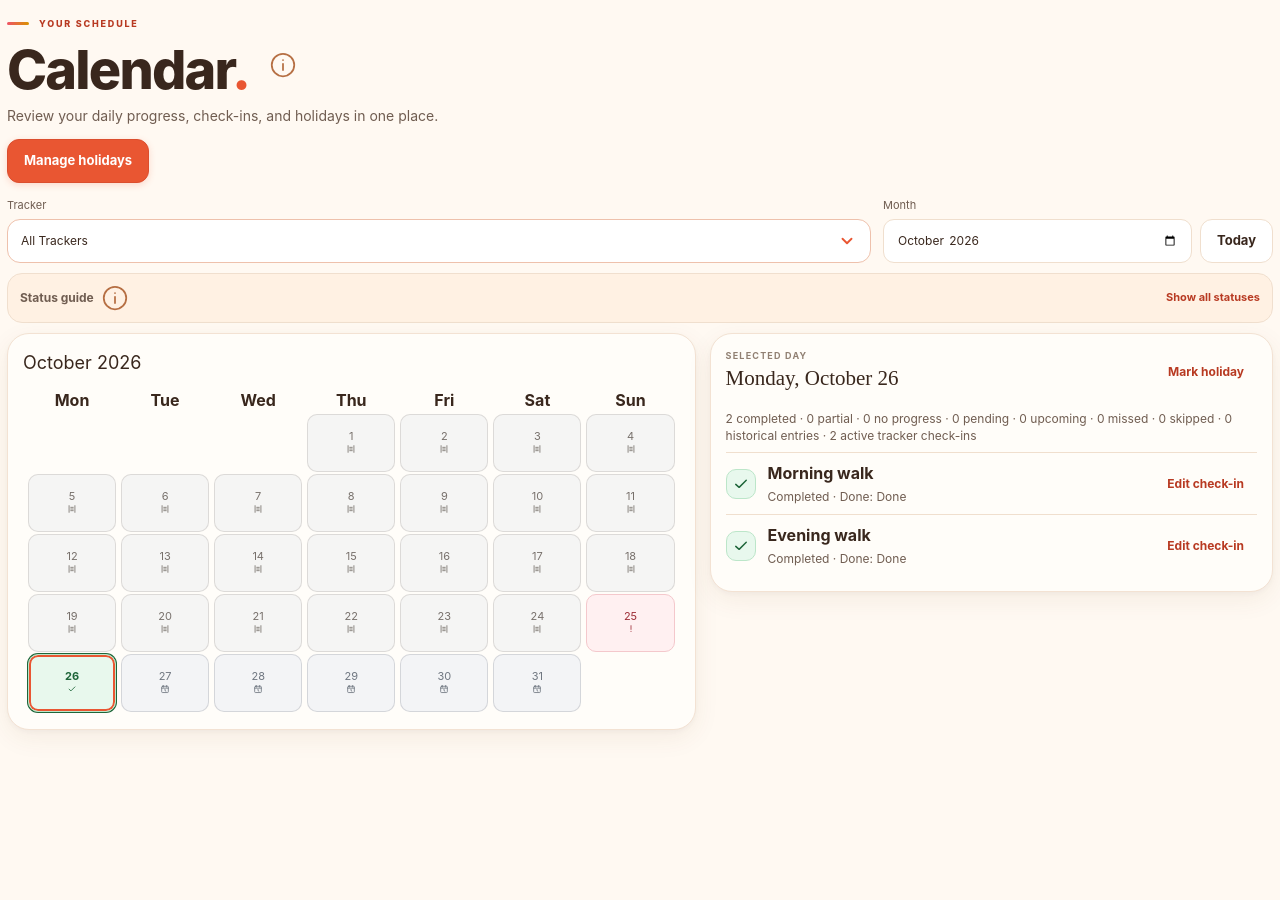
Test: Calendar page › filters date status counts and tracker details to the selected tracker
Expected: the text "2 completed · 0 partial" is shown, 726,410 -> 1257,444
Step 1. Select "Evening walk" in the dropdown labelled "Tracker" → (439, 240), box 7,218 -> 871,262
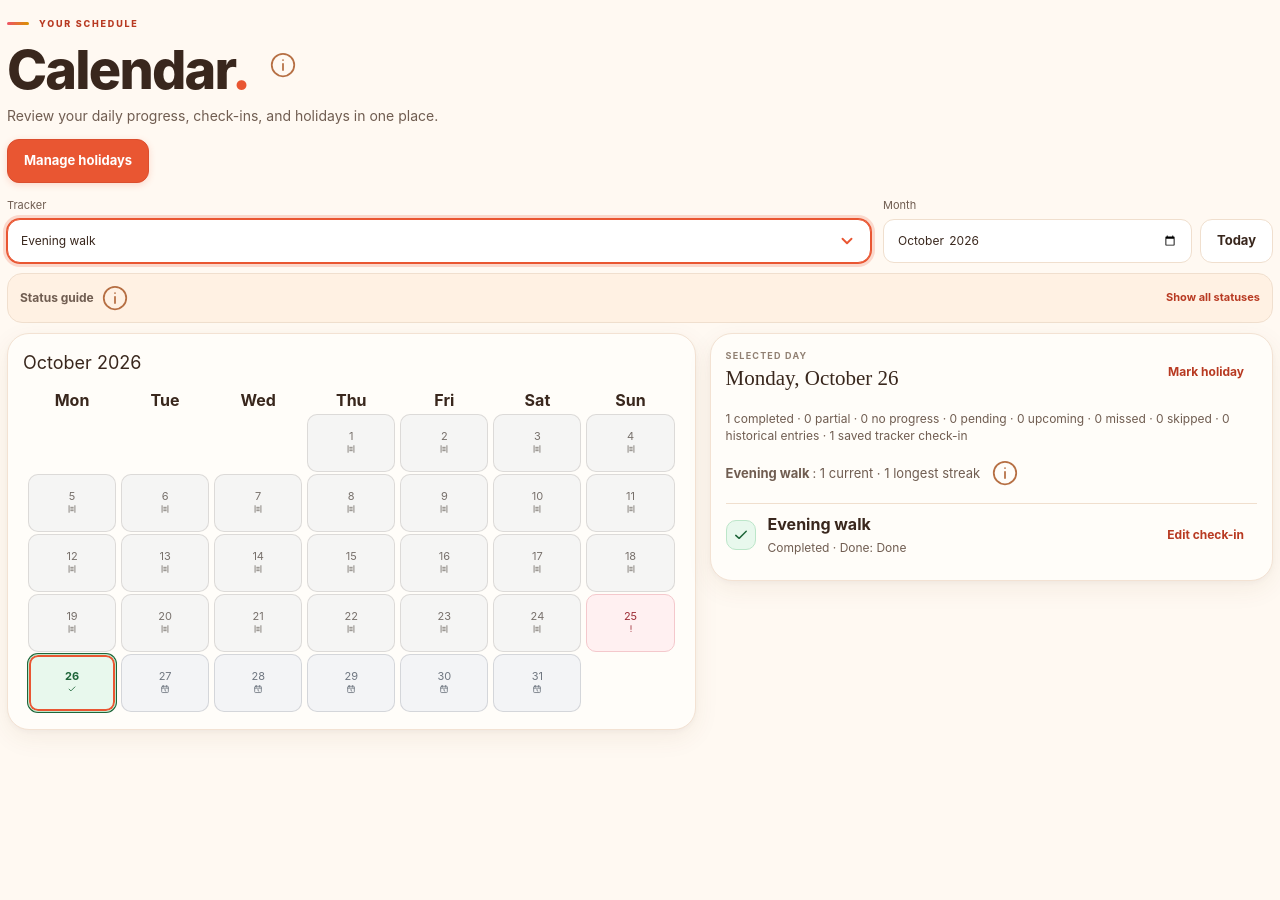
Expected: the text "Evening walk" is shown 2 times, 726,464 -> 809,483; 768,514 -> 871,534
Now the text "Morning walk" is gone
Now the text "1 completed · 0 partial" is shown, box 726,410 -> 1257,444
